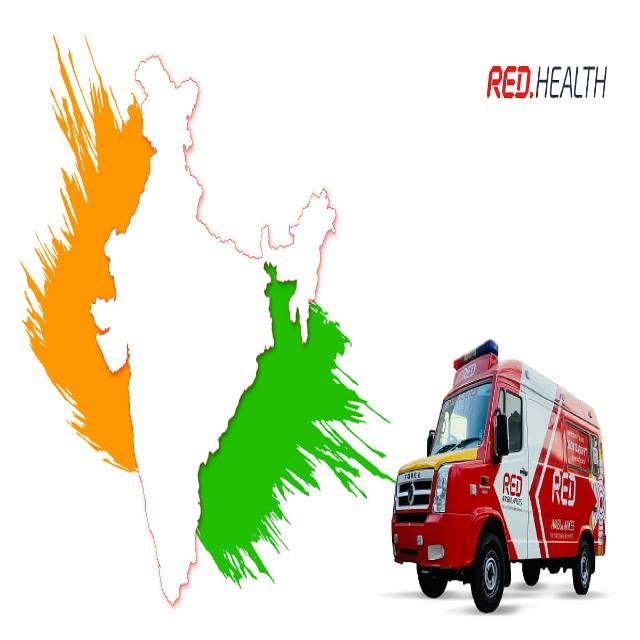Ambulance: (384, 299, 610, 605)
